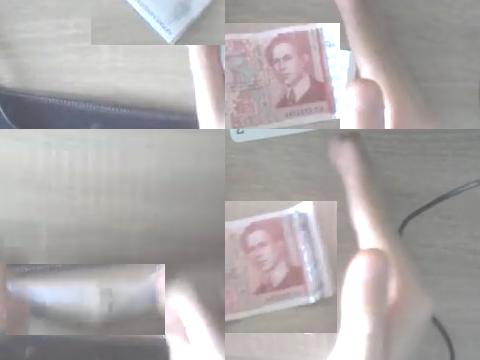20leva: (6, 264, 165, 335)
5leva: (225, 201, 337, 325), (225, 23, 340, 129)
